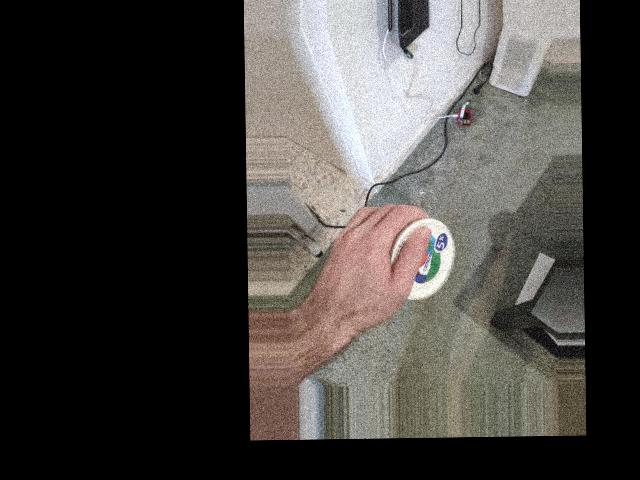cotage: (382, 216, 456, 300)
